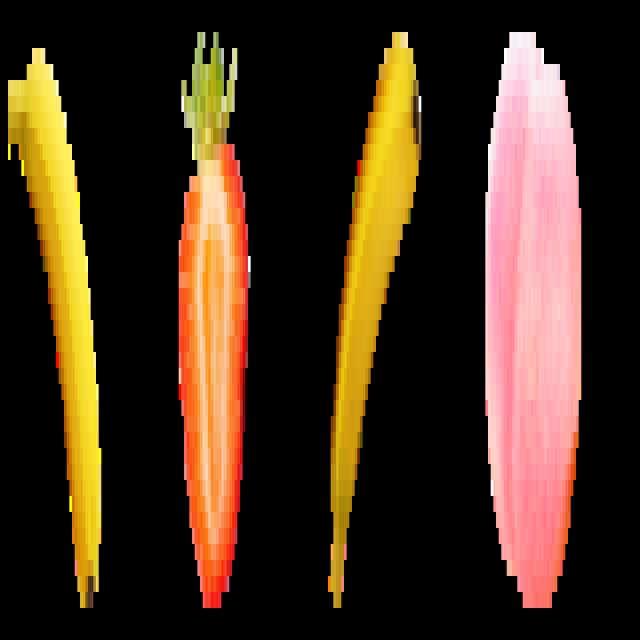bananas: (324, 16, 430, 626), (6, 38, 107, 633)
peach: (483, 22, 586, 627)
strawberry: (173, 9, 254, 630)
